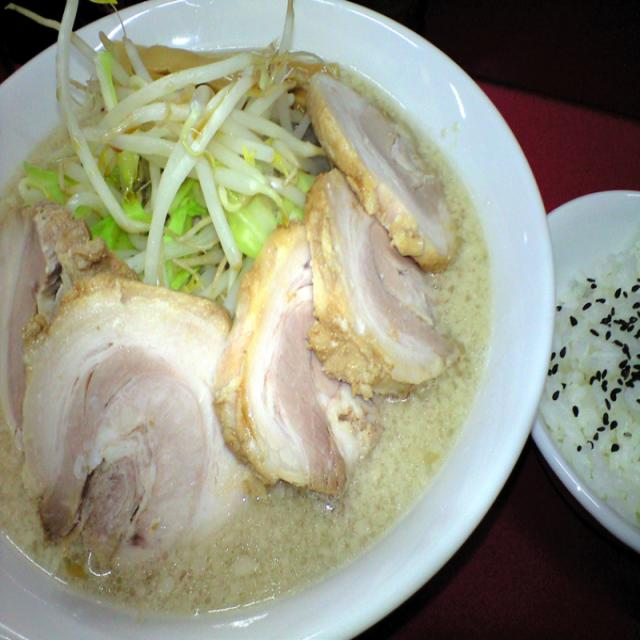面条主食: (0, 50, 497, 607)
